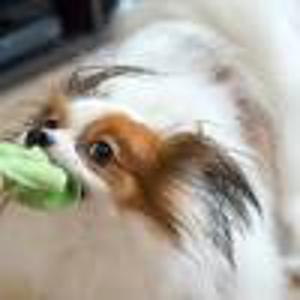yell: (8, 0, 300, 299)
